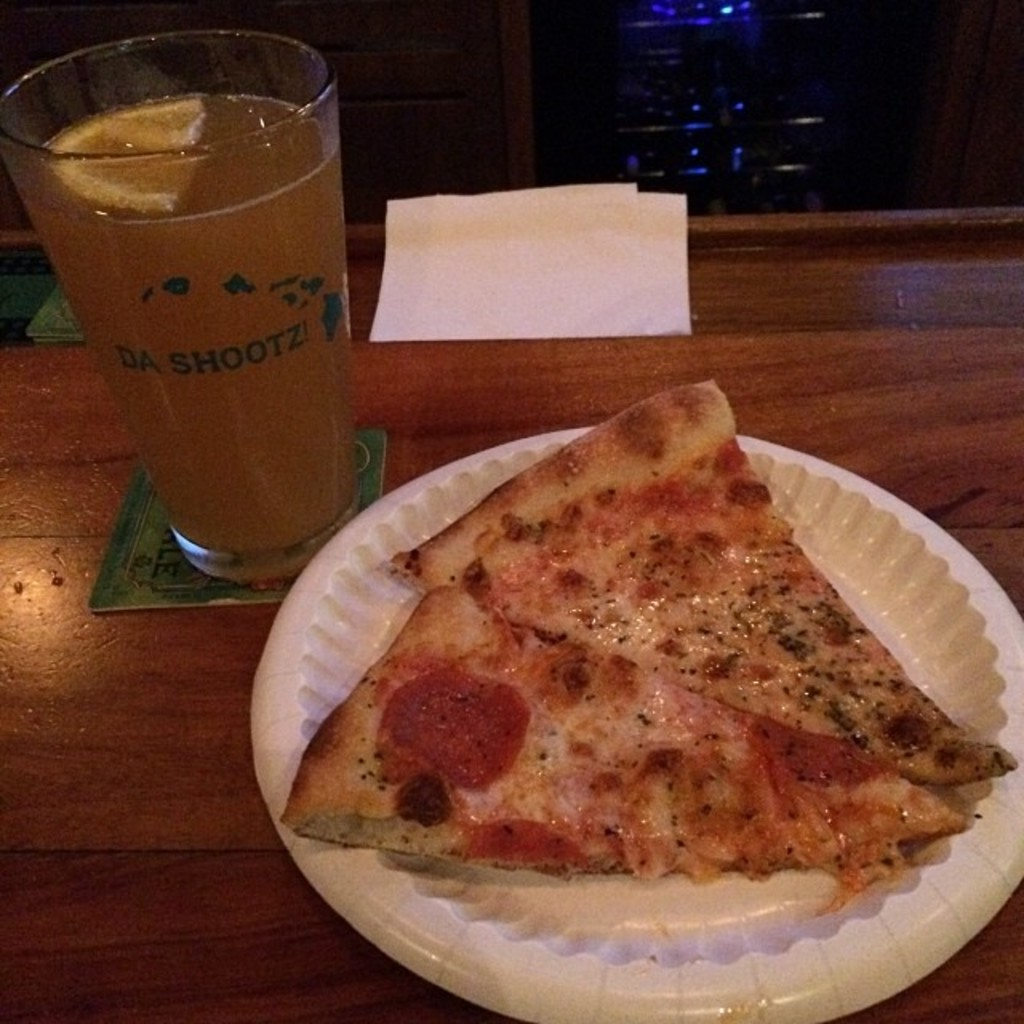Pizza: (390, 379, 1019, 785), (272, 580, 966, 876)
